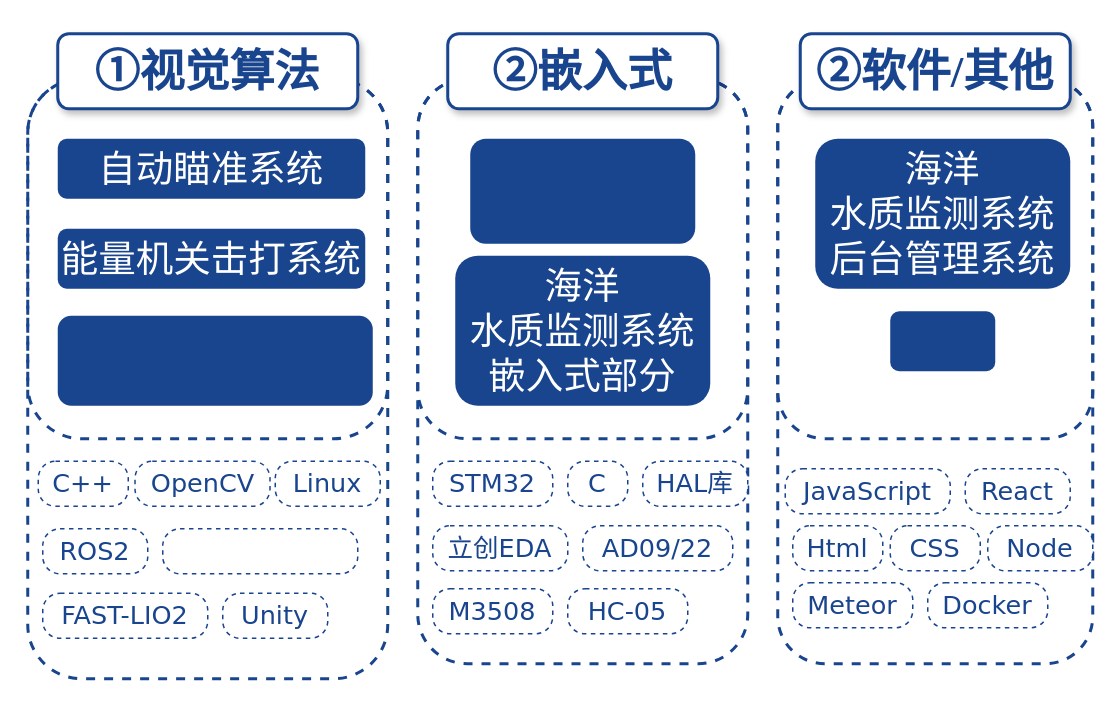
Image size: 1119x705. Some labels were removed from this diagram. The centre of each missing label's shape, as x and y in pixels:
"PP-YOLO-V2" belongs at [259,550].
"外壳" belongs at [942,340].
"能量机关 嵌入式部分" belongs at [582,190].
"轮腿机器人仪表监测和导航" belongs at [214,360].
